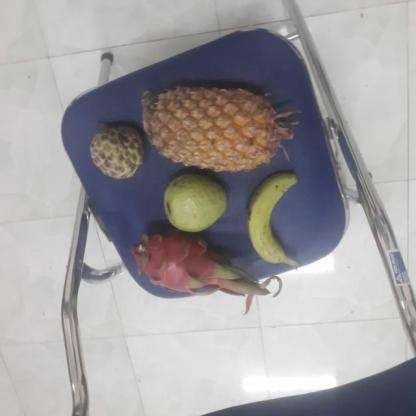annona: (90, 122, 148, 178)
guava: (162, 171, 232, 231)
pineapple: (143, 86, 287, 172)
pitaya: (137, 227, 232, 295)
